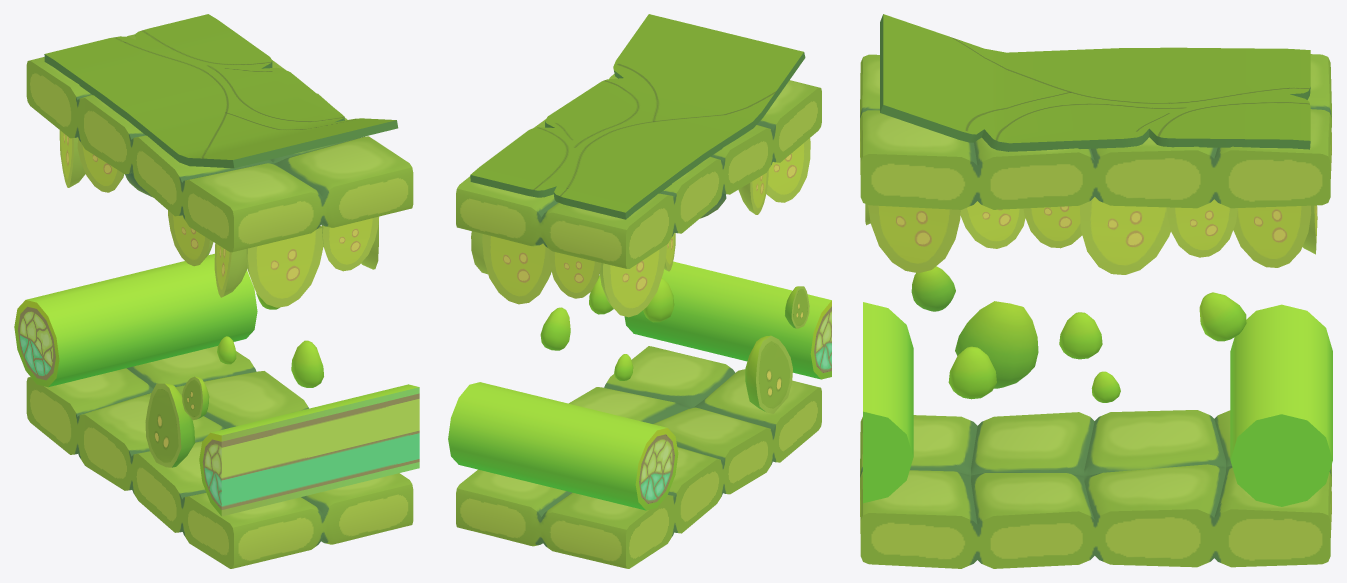
The model's file is TejidoVegetal.glb.
The picture shows the model from 3 angles, left to right: view 1: azimuth 30°, elevation 25°; view 2: azimuth 150°, elevation 25°; view 3: azimuth 270°, elevation 25°; orthographic projection. The views are drawn at different scales.
Visible parts, largest first — view 1: EpidermisInferior, Cuticula, EpidermisSuperior, TejidoConductor, TejidoConductor.001, ParenquimaPalisade.011, ParenquimaSpongy.005, ParenquimaPalisade, ParenquimaPalisade.013, ParenquimaPalisade.012, ParenquimaSpongy.003, ParenquimaPalisade.001 (+2 smaller); view 2: Cuticula, EpidermisInferior, EpidermisSuperior, TejidoConductor, TejidoConductor.001, ParenquimaPalisade.003, ParenquimaSpongy.005, ParenquimaPalisade.002, ParenquimaPalisade.012, ParenquimaPalisade.010, ParenquimaSpongy.001, ParenquimaSpongy.003 (+3 smaller); view 3: EpidermisInferior, Cuticula, EpidermisSuperior, TejidoConductor, TejidoConductor.001, ParenquimaPalisade.006, ParenquimaPalisade.009, ParenquimaSpongy.005, ParenquimaPalisade.004, ParenquimaPalisade.005, ParenquimaPalisade.008, ParenquimaPalisade.007 (+5 smaller).
Boxes of the visible parts, <box> form: EpidermisInferior: <box>26,346,413,568</box>; Cuticula: <box>44,14,398,168</box>; EpidermisSuperior: <box>26,34,413,252</box>; TejidoConductor: <box>14,253,257,387</box>; TejidoConductor.001: <box>199,384,419,516</box>; ParenquimaPalisade.011: <box>246,226,323,307</box>; ParenquimaSpongy.005: <box>145,383,195,467</box>; ParenquimaPalisade: <box>321,216,378,271</box>; ParenquimaPalisade.013: <box>168,210,213,266</box>; ParenquimaPalisade.012: <box>214,243,247,297</box>; ParenquimaSpongy.003: <box>291,340,323,387</box>; ParenquimaPalisade.001: <box>77,137,124,192</box>; Cuticula: <box>470,14,805,219</box>; EpidermisInferior: <box>456,346,821,568</box>; EpidermisSuperior: <box>456,74,821,268</box>; TejidoConductor: <box>448,382,678,510</box>; TejidoConductor.001: <box>624,261,831,379</box>; ParenquimaPalisade.003: <box>482,234,551,304</box>; ParenquimaSpongy.005: <box>745,335,792,413</box>; ParenquimaPalisade.002: <box>600,245,666,317</box>; ParenquimaPalisade.012: <box>766,138,810,202</box>; ParenquimaPalisade.010: <box>548,249,601,298</box>; ParenquimaSpongy.001: <box>540,307,570,350</box>; ParenquimaSpongy.003: <box>643,278,674,322</box>; EpidermisInferior: <box>860,410,1331,568</box>; Cuticula: <box>880,14,1310,151</box>; EpidermisSuperior: <box>860,54,1331,209</box>; TejidoConductor: <box>1230,304,1332,506</box>; TejidoConductor.001: <box>863,302,913,503</box>; ParenquimaPalisade.006: <box>1080,197,1170,274</box>; ParenquimaPalisade.009: <box>868,205,960,273</box>; ParenquimaSpongy.005: <box>955,301,1038,388</box>; ParenquimaPalisade.004: <box>1233,205,1311,267</box>; ParenquimaPalisade.005: <box>1167,199,1238,257</box>; ParenquimaPalisade.008: <box>960,201,1025,248</box>; ParenquimaPalisade.007: <box>1023,205,1082,248</box>.
Bounding box in the file's own units: 0.1097 × 0.2131 × 0.1982.
7 materials, 7 textured.
